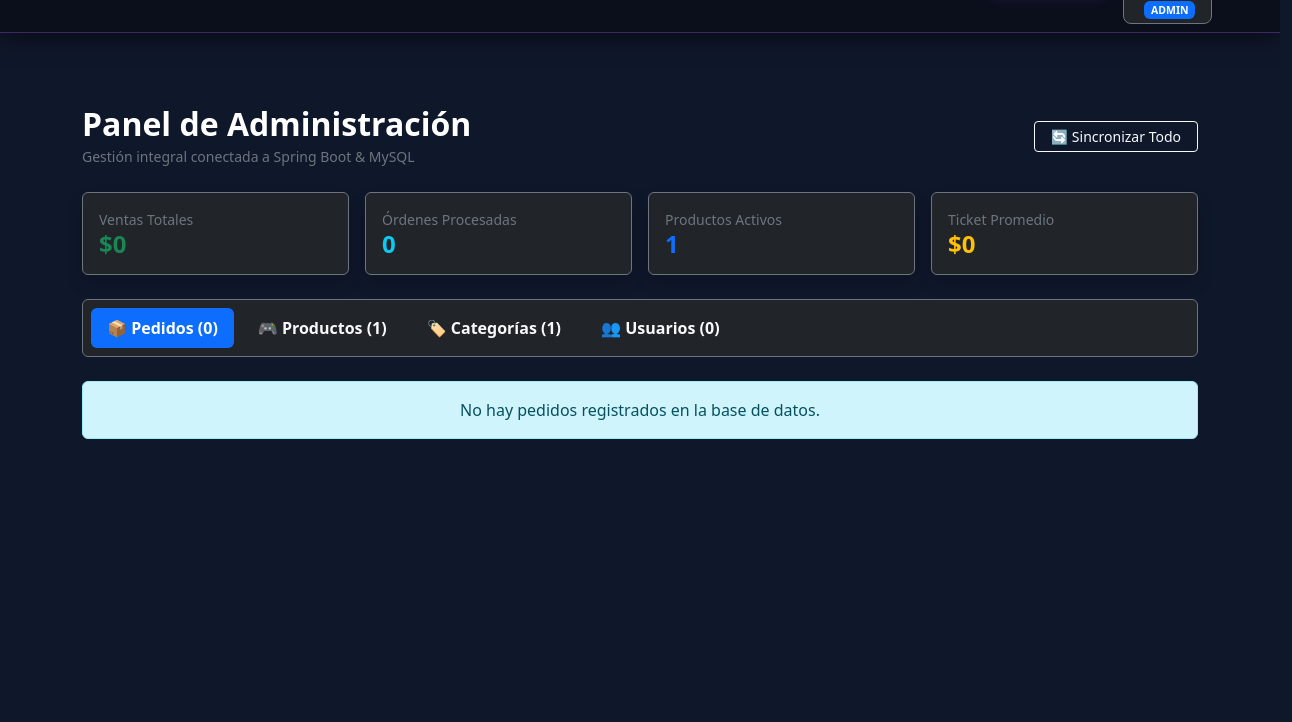
Test: Pruebas Funcionales App.jsx - Requerimientos de Sistema › Req 1: Disponibilidad por rol, validación de datos e informe de resultado › 1.3 completa la operación cuando los datos son válidos e informa el resultado al usuario
This screenshot has width=1292, height=722.
Expected: the heading "Panel de Administración" is shown, [82,105,471,144]
Click the button "🏷️ Categorías (1)".
click(494, 328)  # box [411,308,577,348]
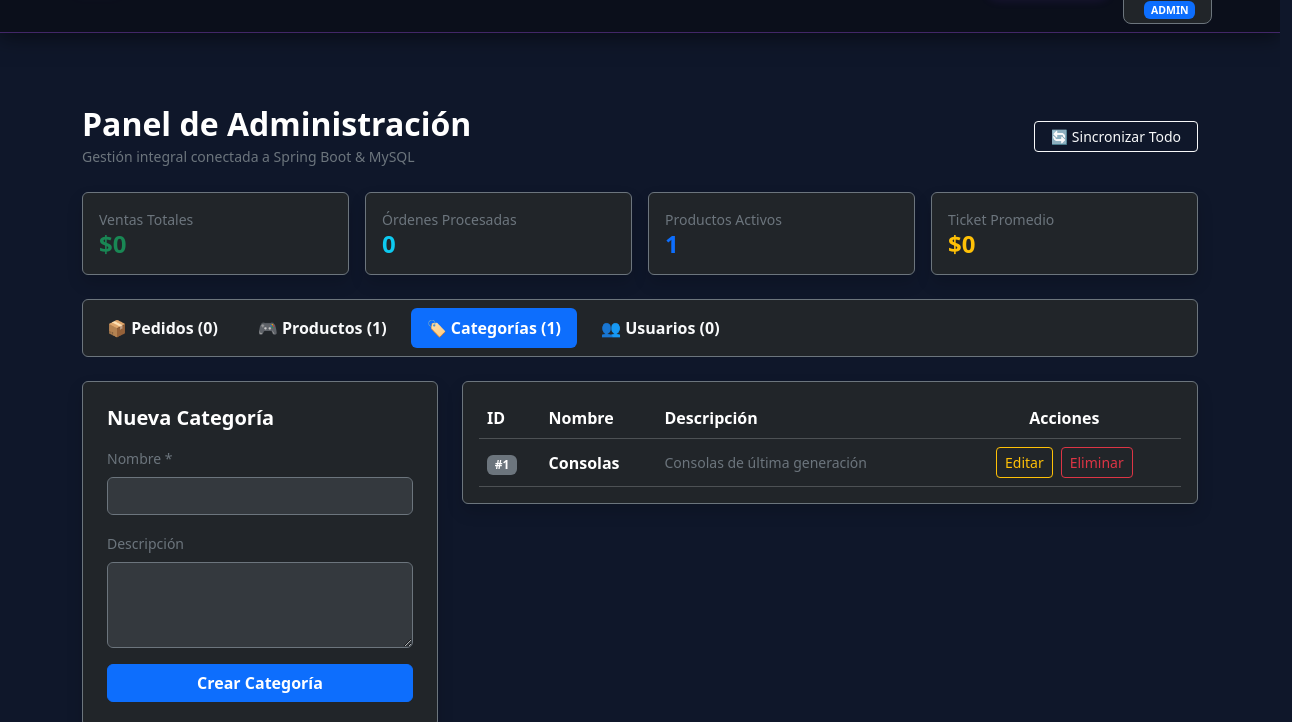
Type "Sillas Gamer" into the field.
click(260, 496); type("Sillas Gamer")  # box [107,477,413,515]
(page scrolled)
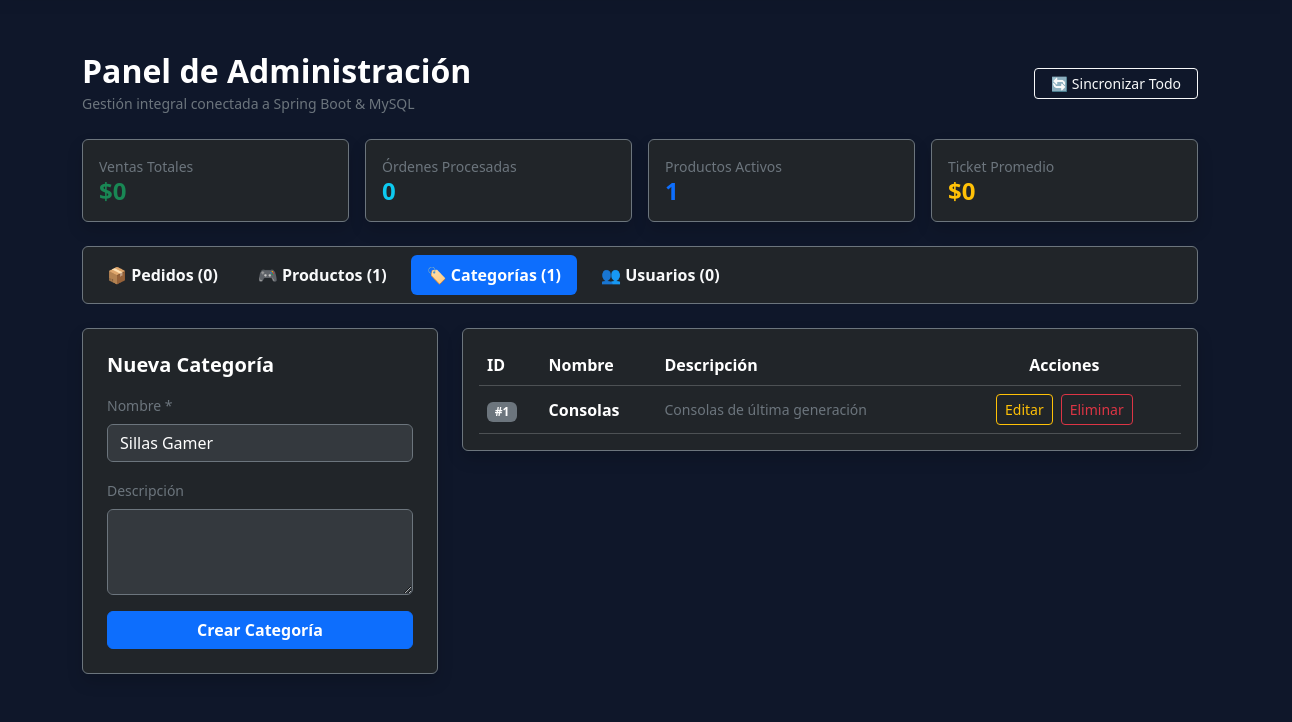
Submit the form, box [82,328,438,674]
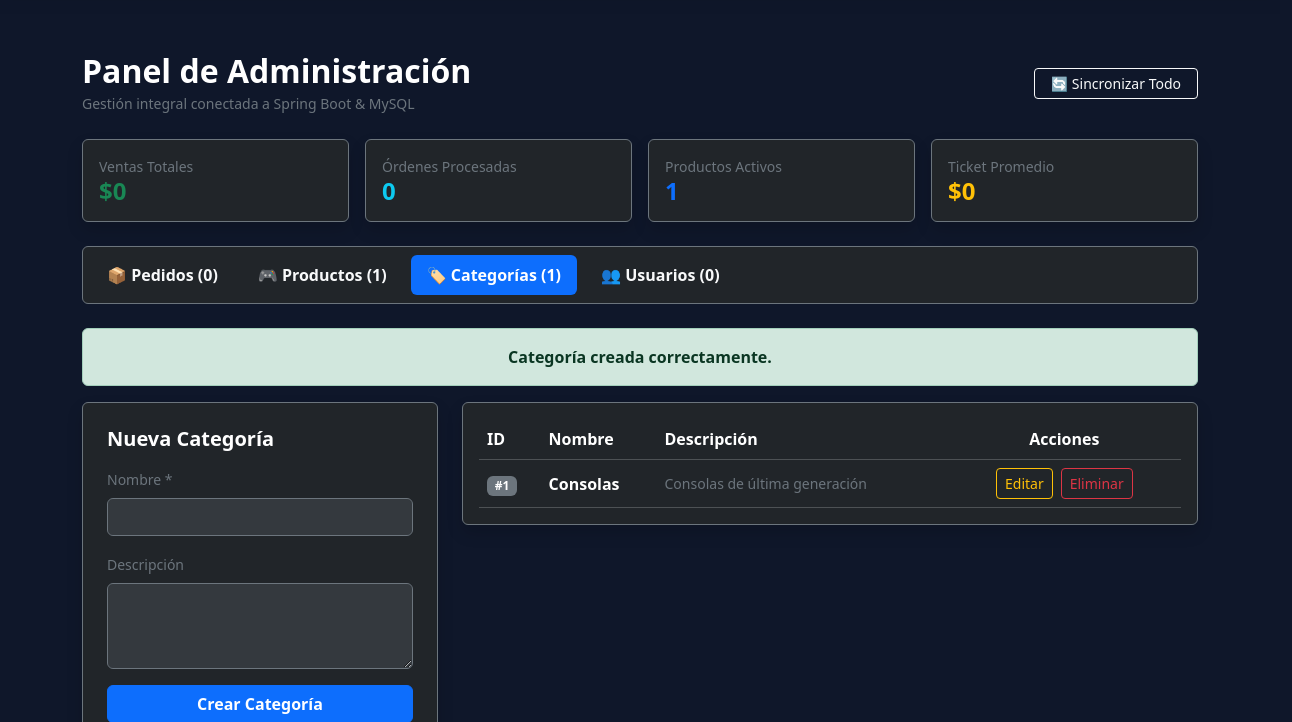
Now the text "Categoría creada correctamente." is shown, box [82,328,1198,386]
